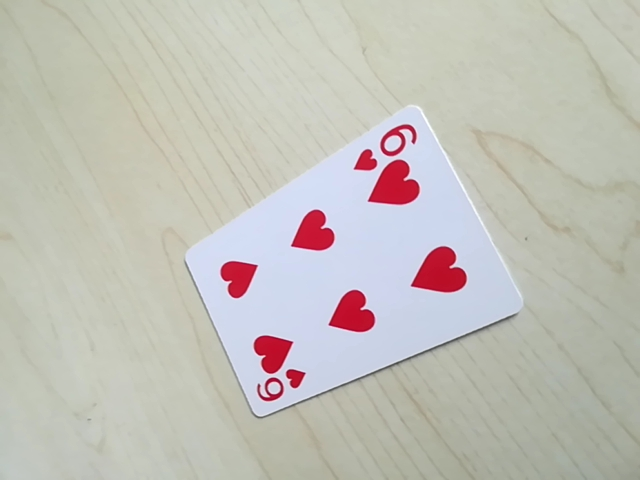hx 6: (351, 120, 423, 170), (252, 368, 308, 412)
